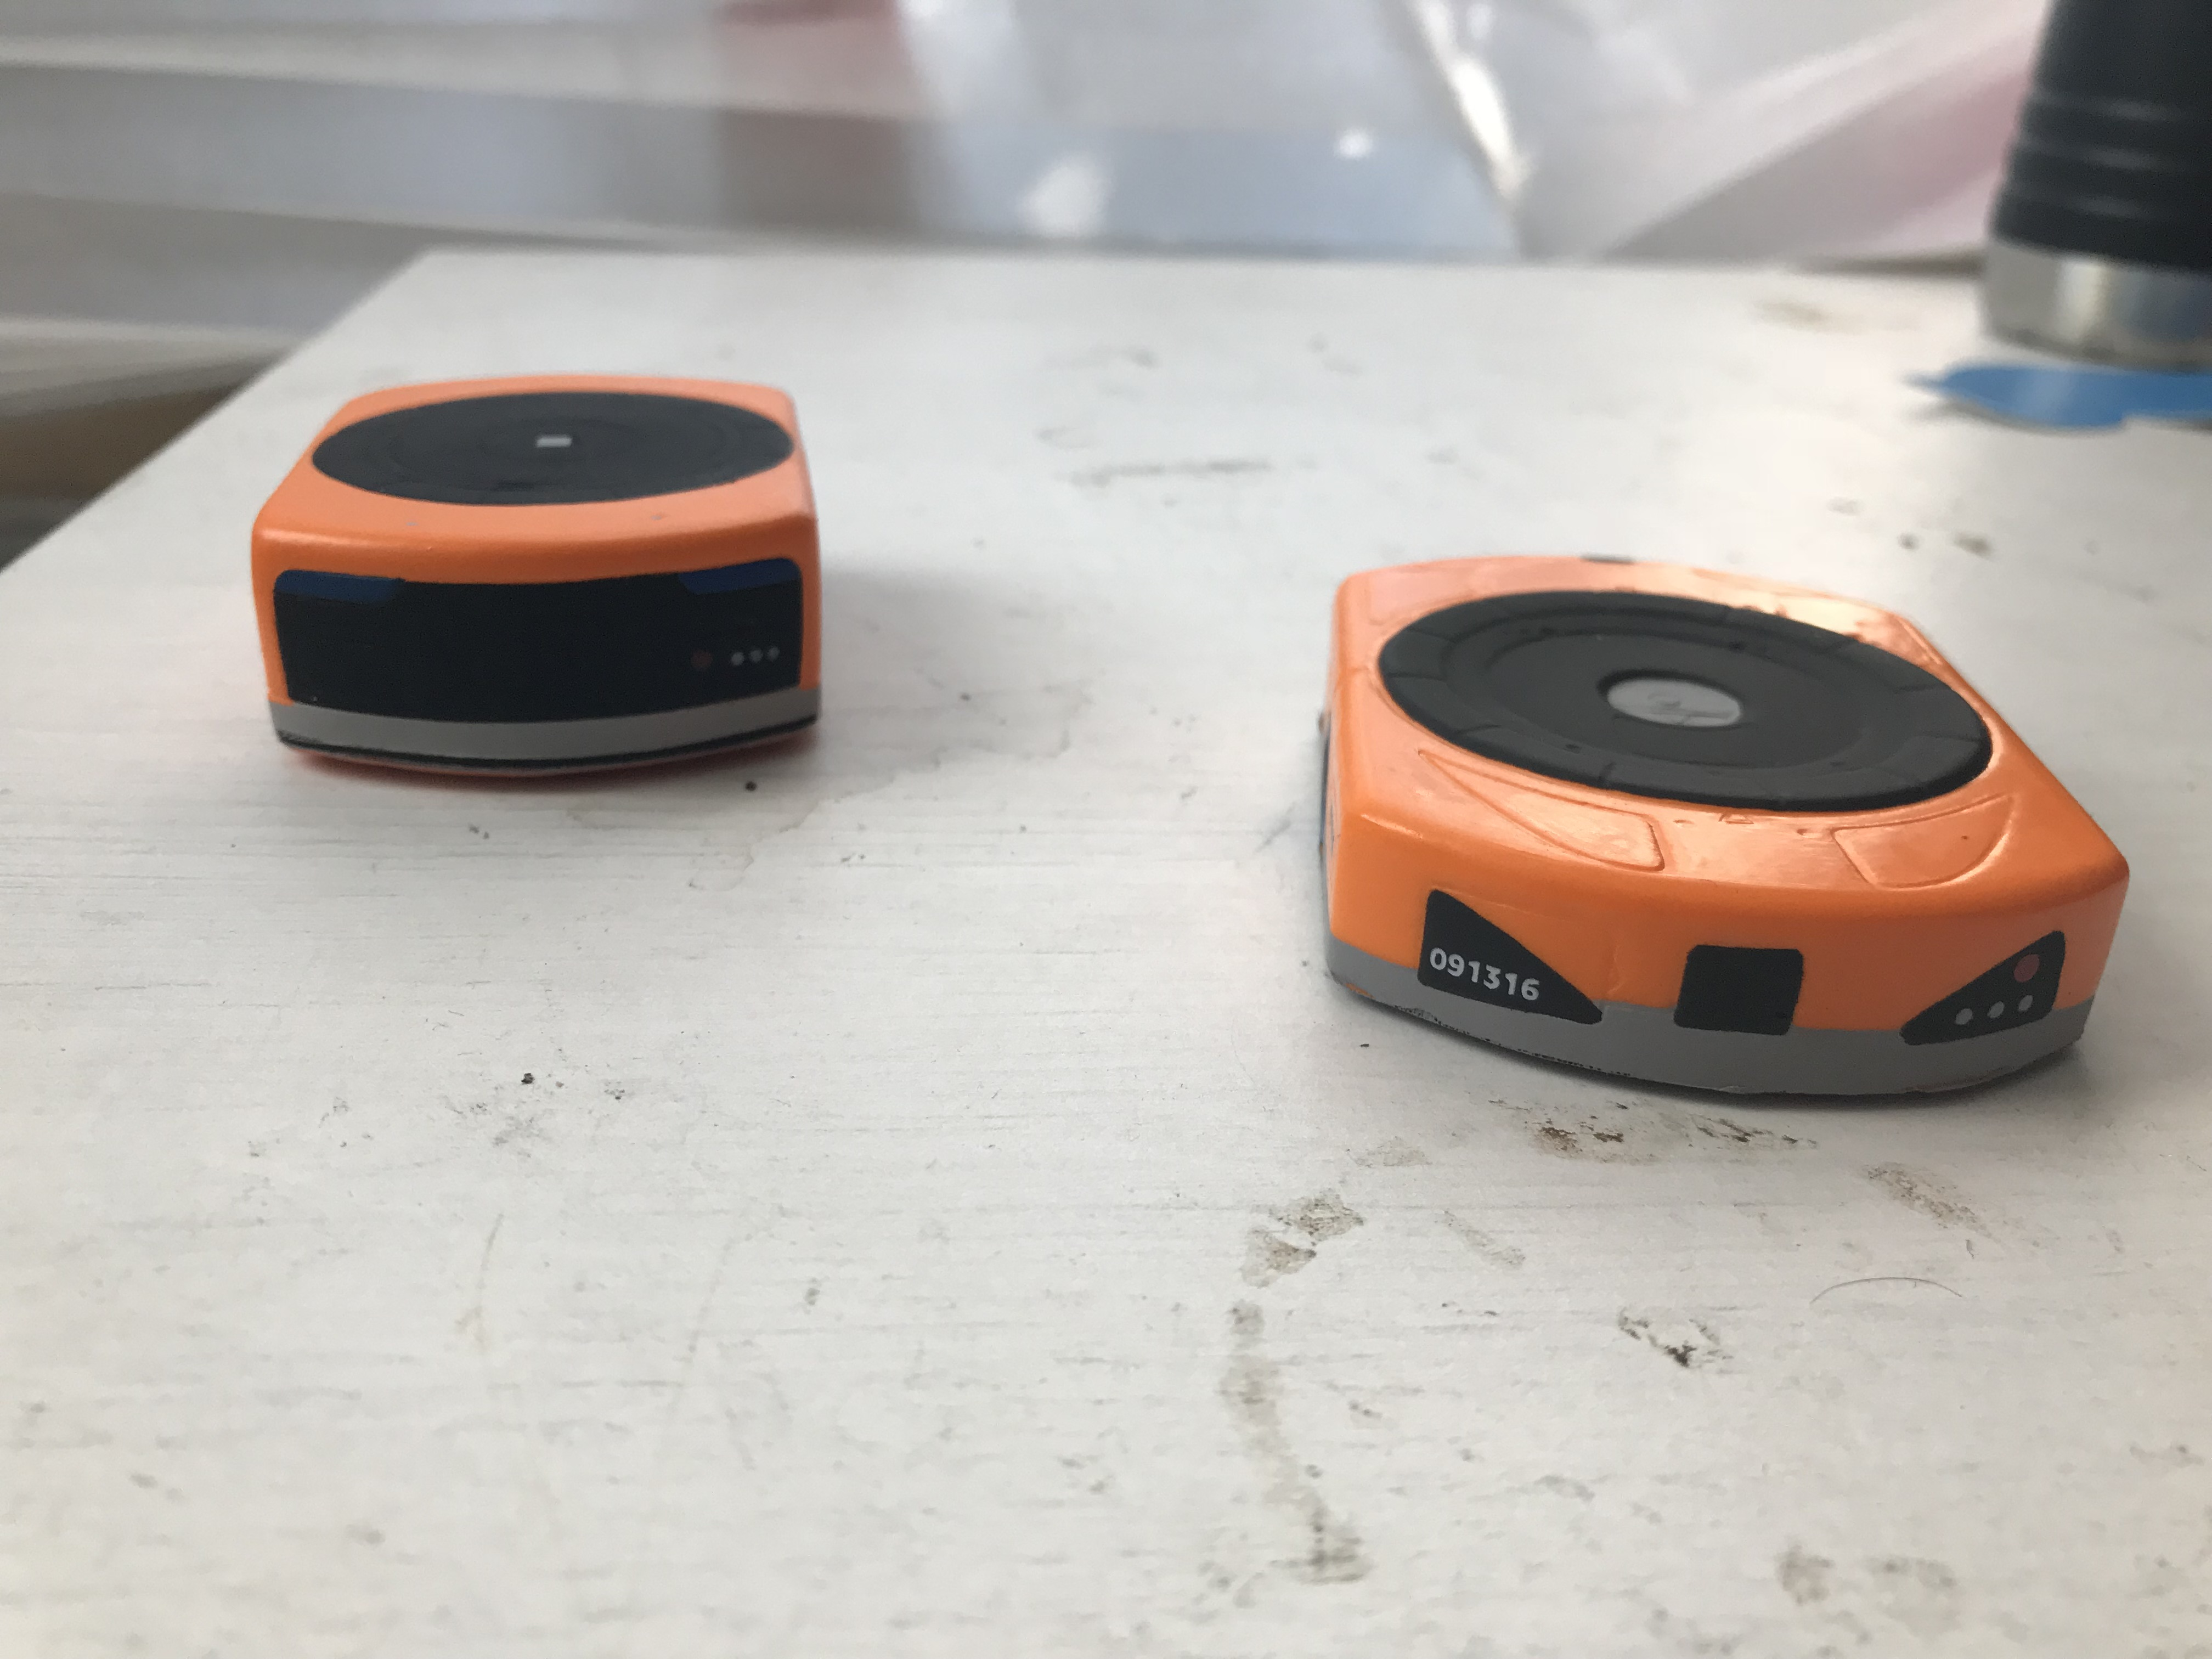amazon_bot: (1294, 538, 2172, 1155), (221, 350, 855, 828)
